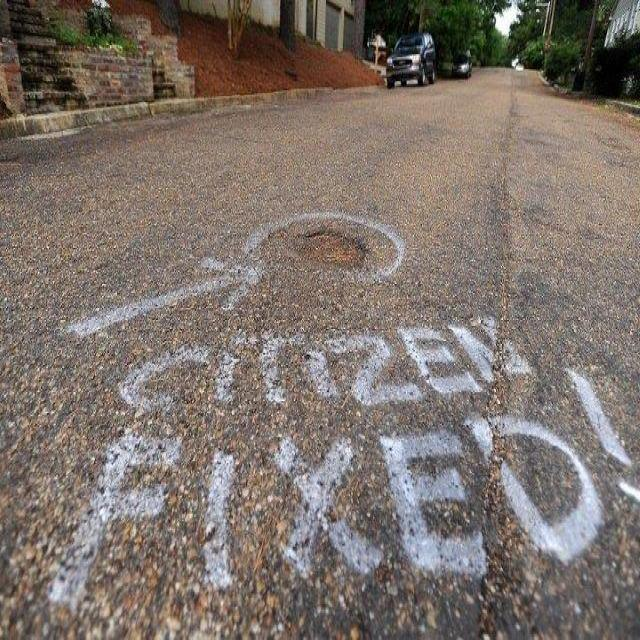jalan retak: (481, 308, 528, 640)
lubang: (276, 212, 372, 281)
